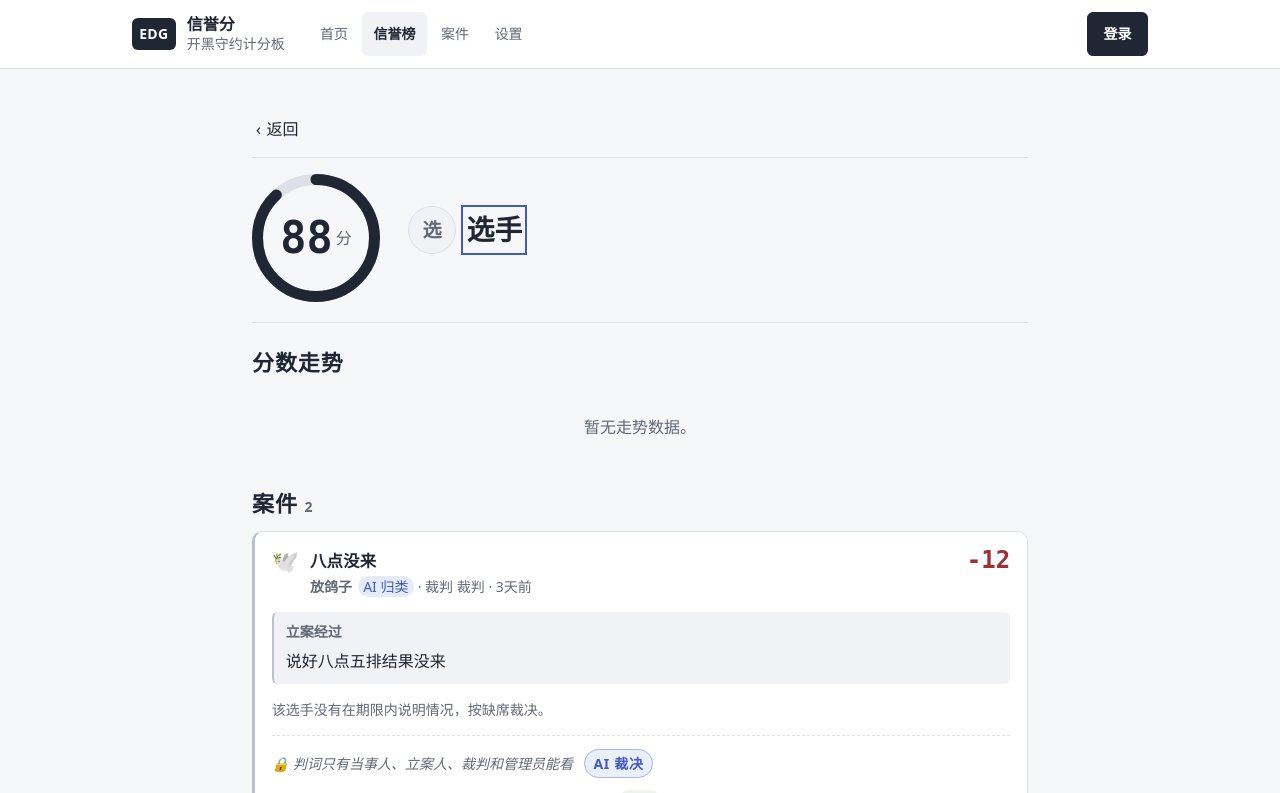
Test: /players/:id › the brand link goes home in place
Expected: the heading "选手" is shown, [466,210,522,250]
Click the link with aria-label "EDG 信誉分 首页" at (208, 34), box [132,12,285,56]
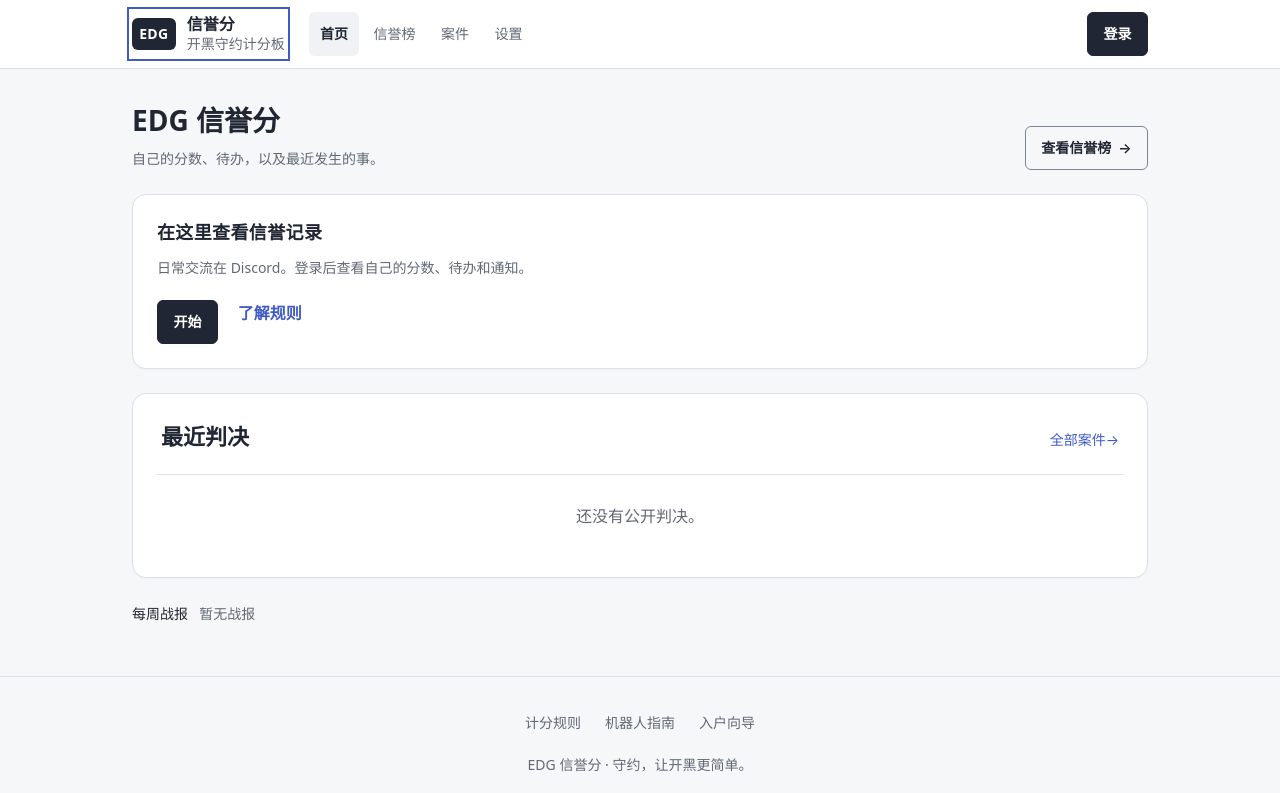
Expected: the heading "最近判决" is shown, [161,421,249,452]
